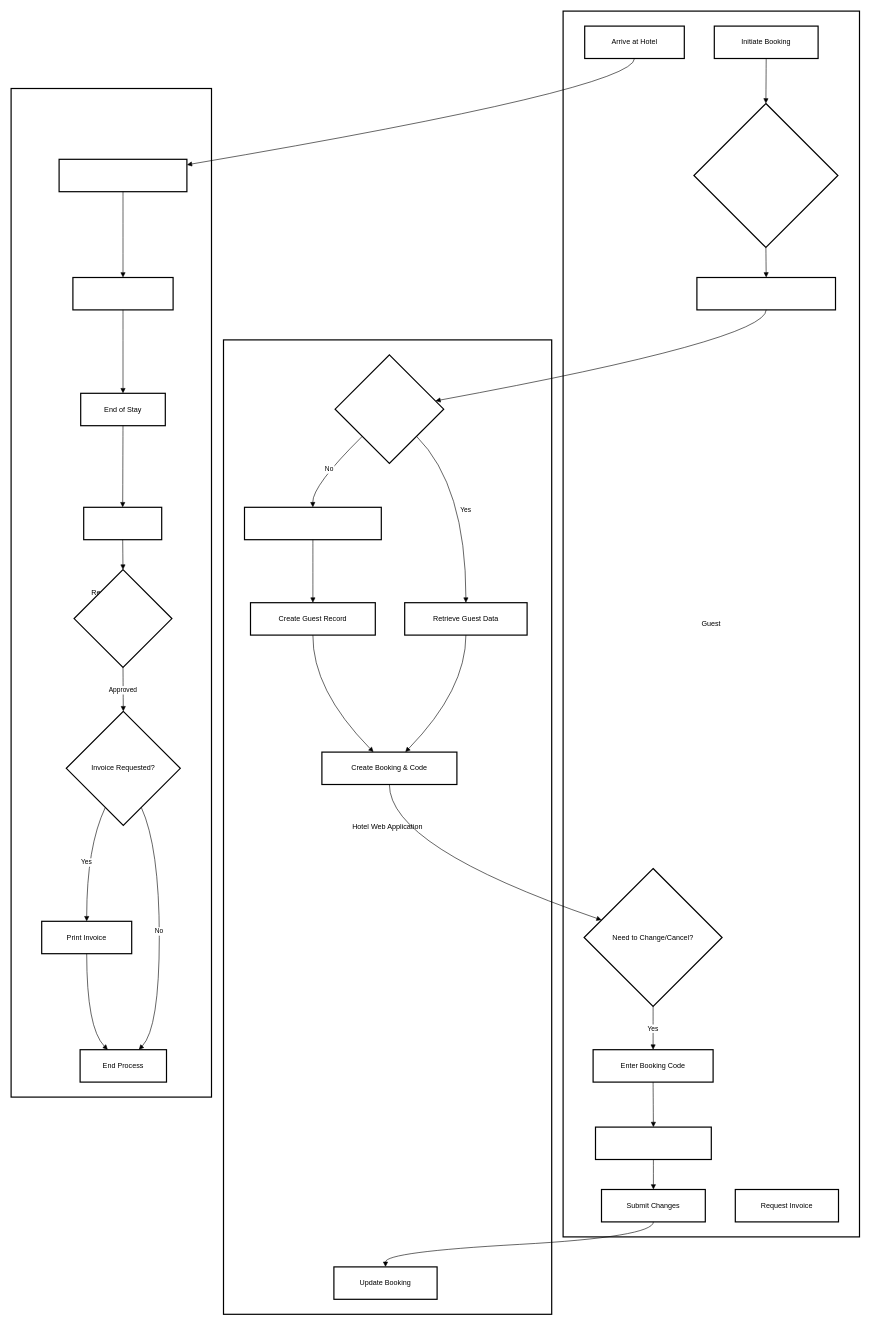
Image size: 870x1325. Some labels were removed from this diagram. Here are the shapes that lost their labels. From the top down, the centre of each, then its label:
At (x=122, y=175): "Find Booking by Code".
At (x=765, y=175): "Choose Date & Room Type".
At (x=122, y=293): "Check Guest In".
At (x=766, y=293): "Submit Booking Request".
At (x=389, y=409): "Guest Registered?".
At (x=122, y=523): "Settle Bill".
At (x=313, y=523): "Prompt for Registration".
At (x=122, y=618): "Check Payment".
At (x=653, y=1143): "Make Amendments".
